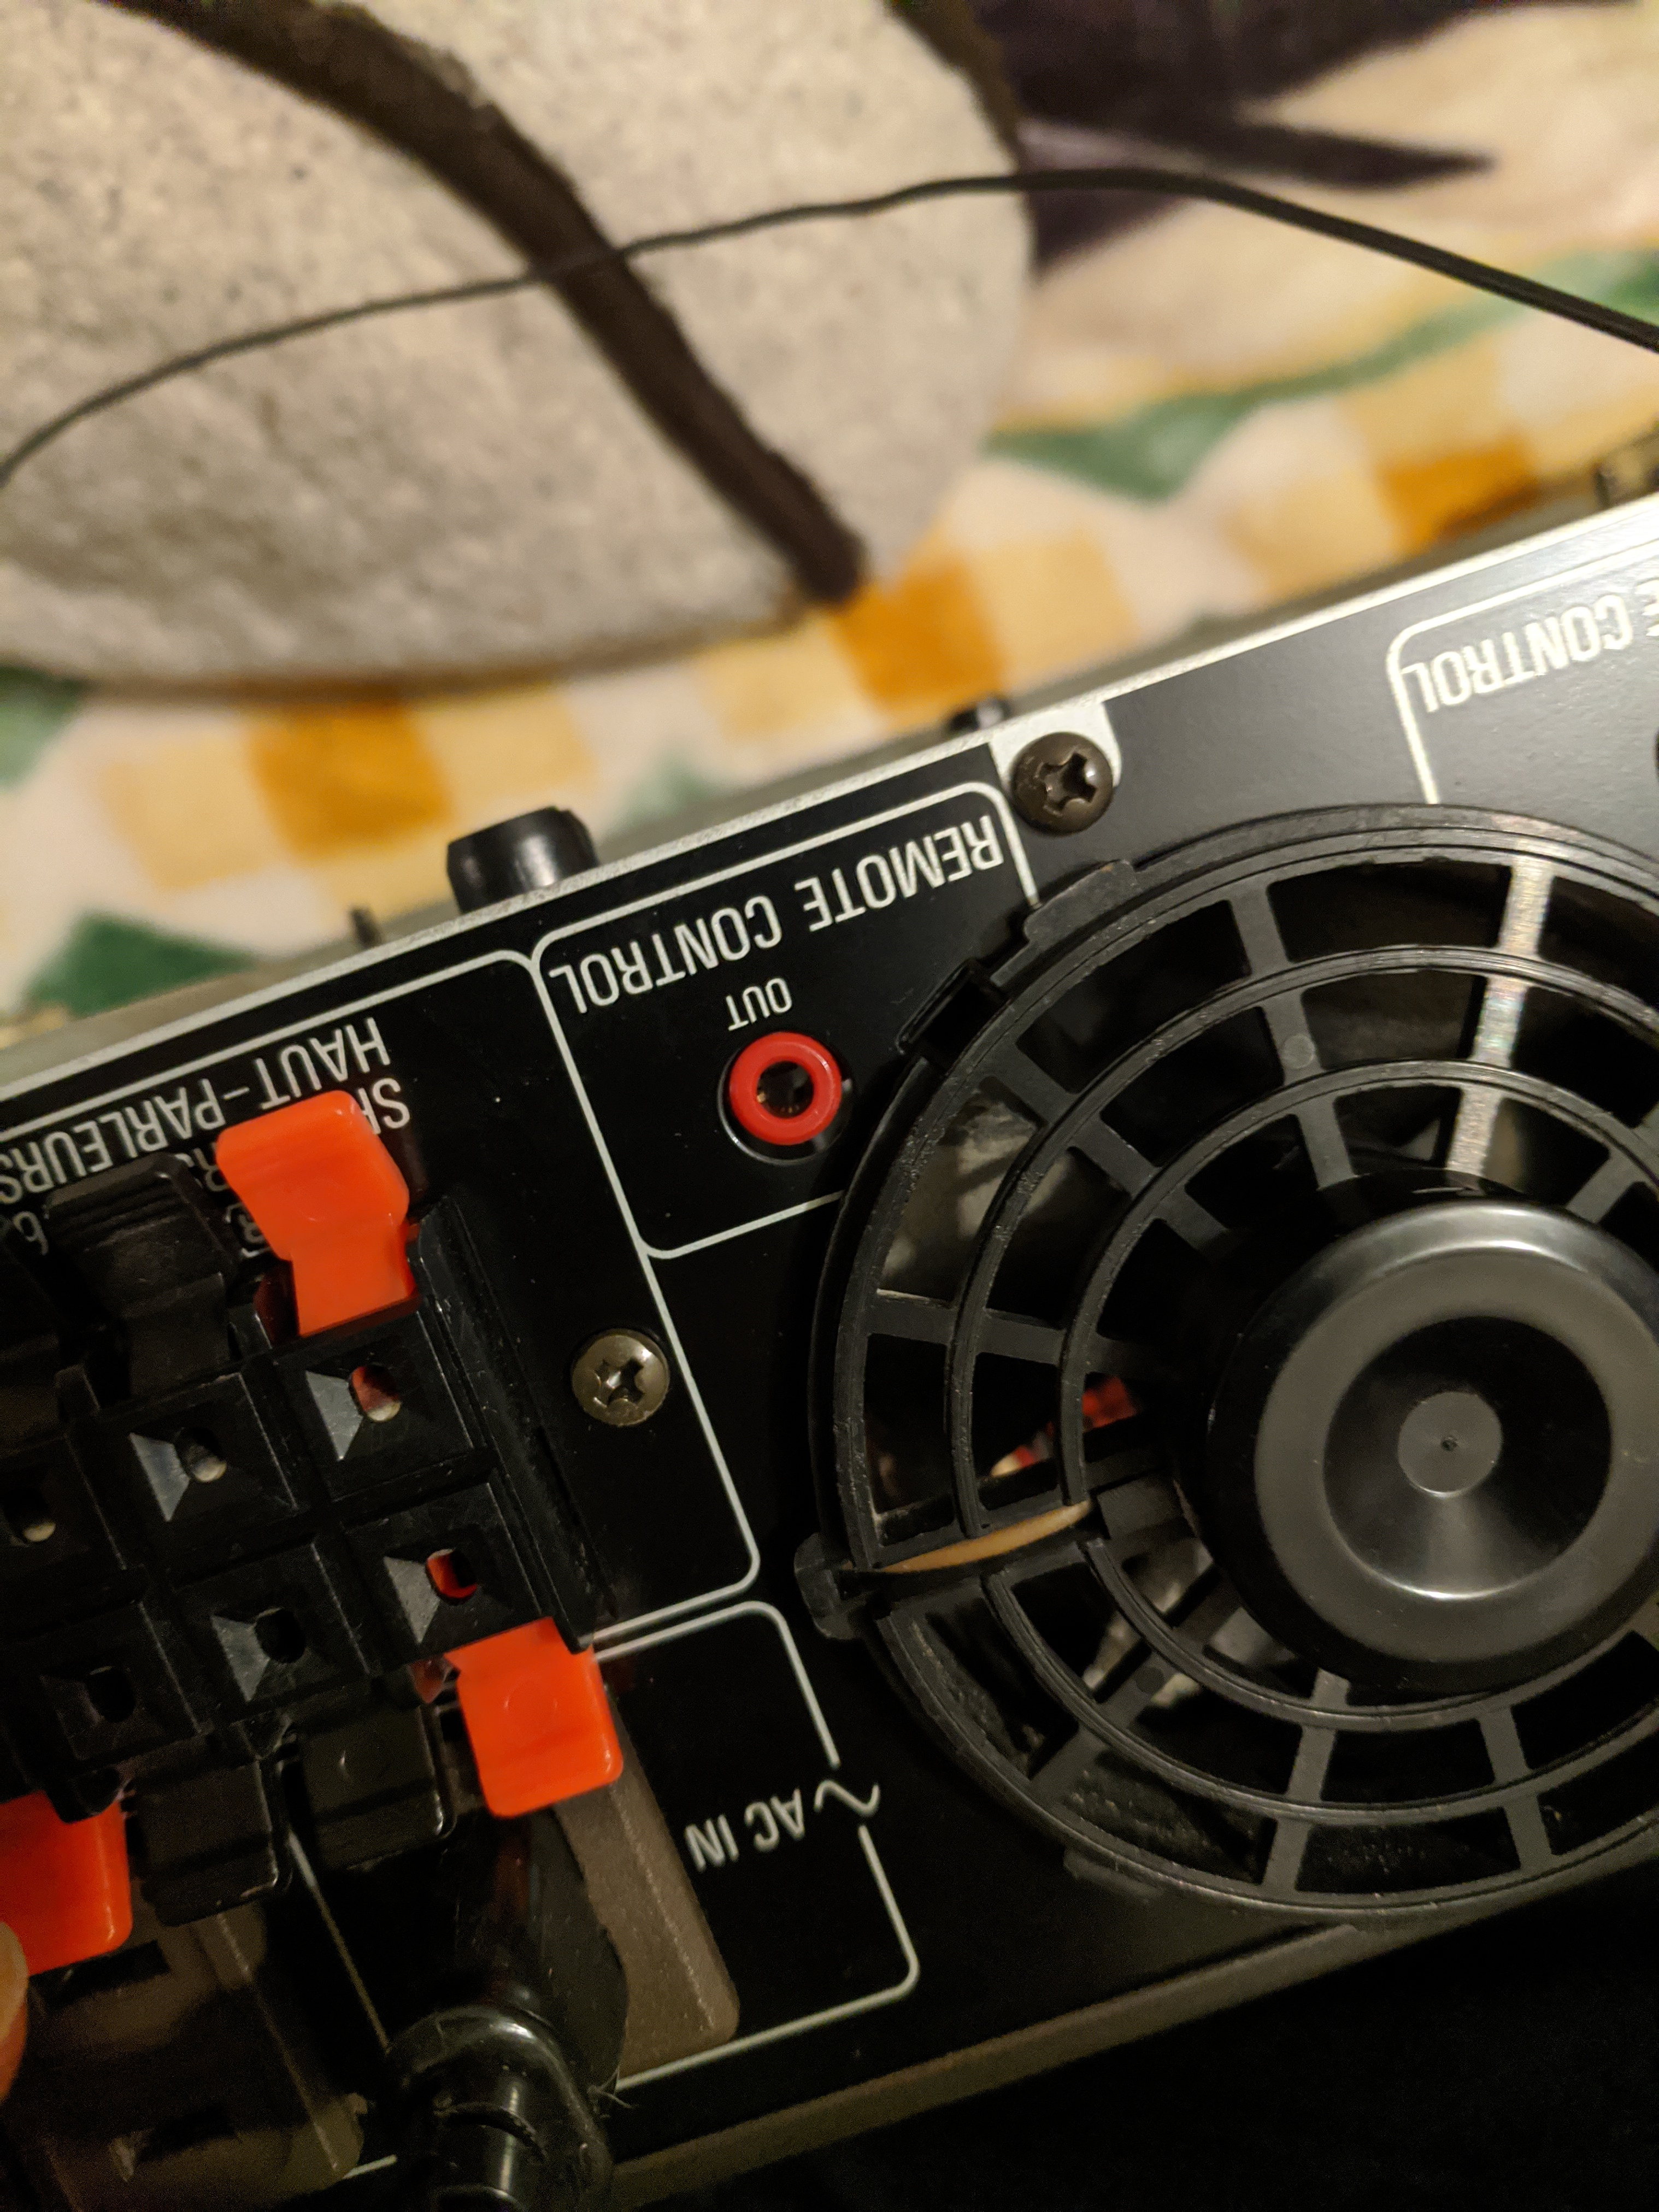cross_recessed_screw: (1000, 718, 1115, 827), (559, 1329, 659, 1433)
